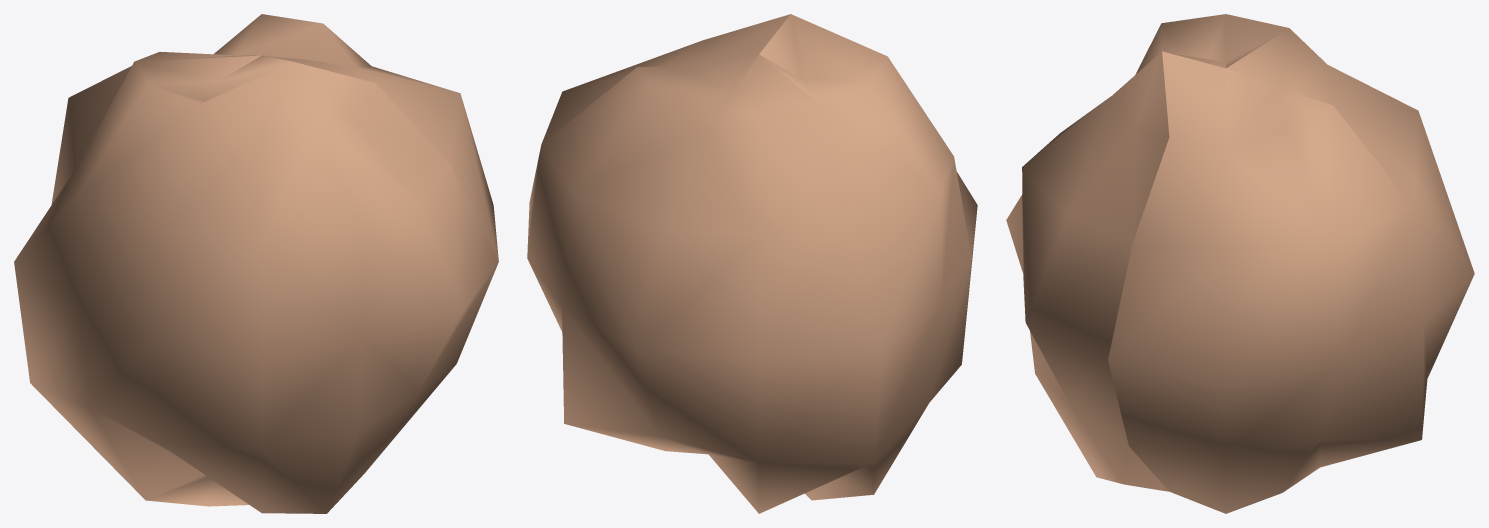
The model's file is rock_005.fbx.
3 views of the same model, side by side, from view 1: azimuth 30°, elevation 25°; view 2: azimuth 150°, elevation 25°; view 3: azimuth 270°, elevation 25° (orthographic).
Parts seen in each view (by area): view 1: Rock; view 2: Rock; view 3: Rock.
Part boxes in pixels (box(x1,y1,x2,y2)): Rock: box(14, 14, 498, 513); Rock: box(527, 14, 977, 513); Rock: box(1006, 14, 1474, 513).
Bounding box in the file's own units: 3.01 × 3.13 × 2.94.
